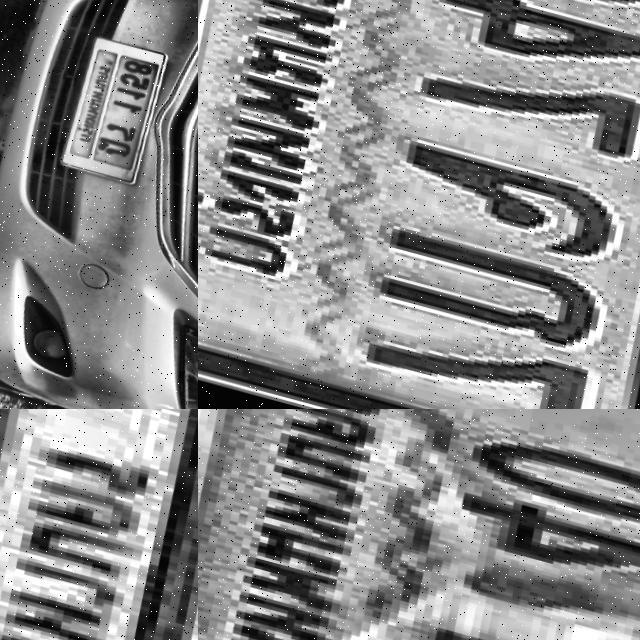license-plate: (198, 0, 640, 409), (198, 409, 640, 640), (0, 409, 198, 640), (41, 25, 175, 188)
